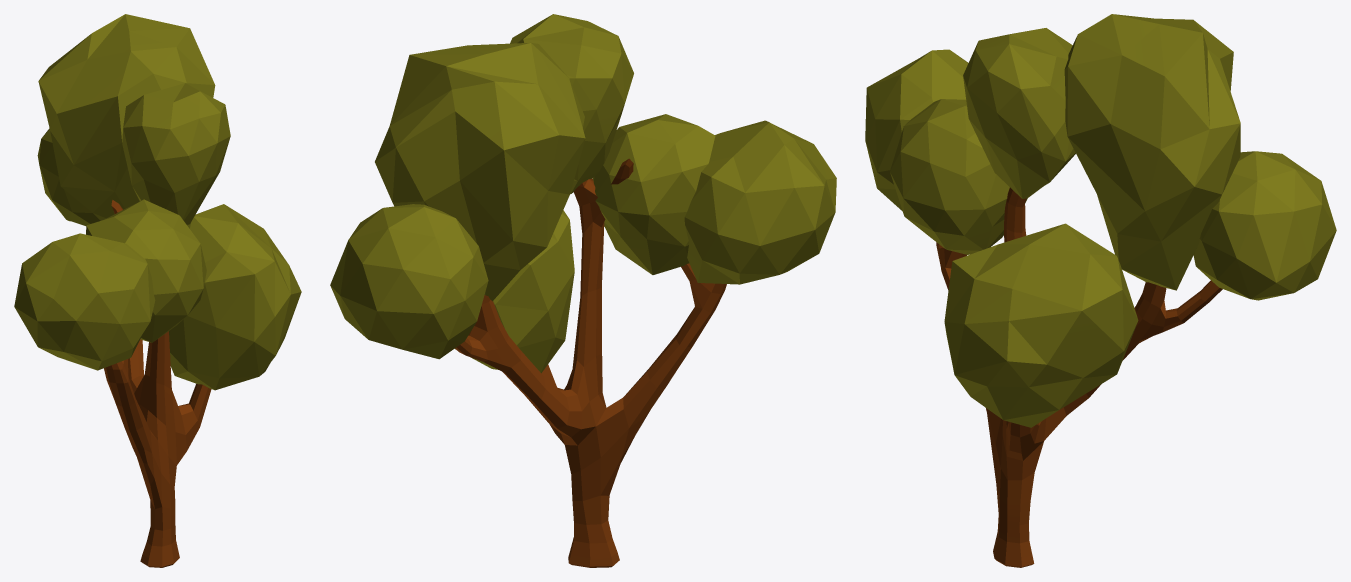
File: Tree_3.fbx
3 views of the same model, side by side, from view 1: azimuth 30°, elevation 25°; view 2: azimuth 150°, elevation 25°; view 3: azimuth 270°, elevation 25° (orthographic). The views are drawn at different scales.
Visible parts, largest first — view 1: Leaves, Tree_3; view 2: Leaves, Tree_3; view 3: Leaves, Tree_3.
Boxes of the visible parts, box(x1,y1,x2,y2) form: Leaves: box(14, 14, 301, 390); Tree_3: box(104, 200, 211, 567); Leaves: box(330, 14, 836, 373); Tree_3: box(455, 158, 726, 567); Leaves: box(865, 14, 1336, 427); Tree_3: box(936, 187, 1222, 567).
Size of the model in its own units: 752 by 1116 by 864.
